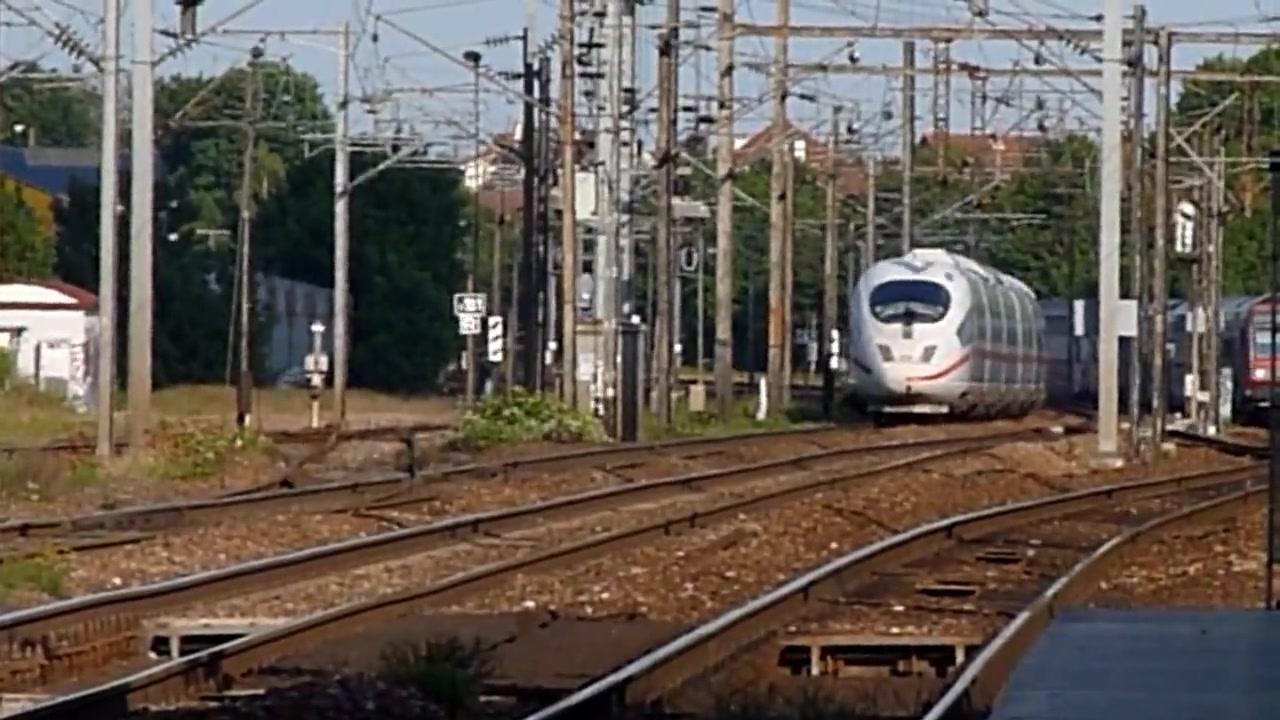train: (841, 244, 1055, 415)
